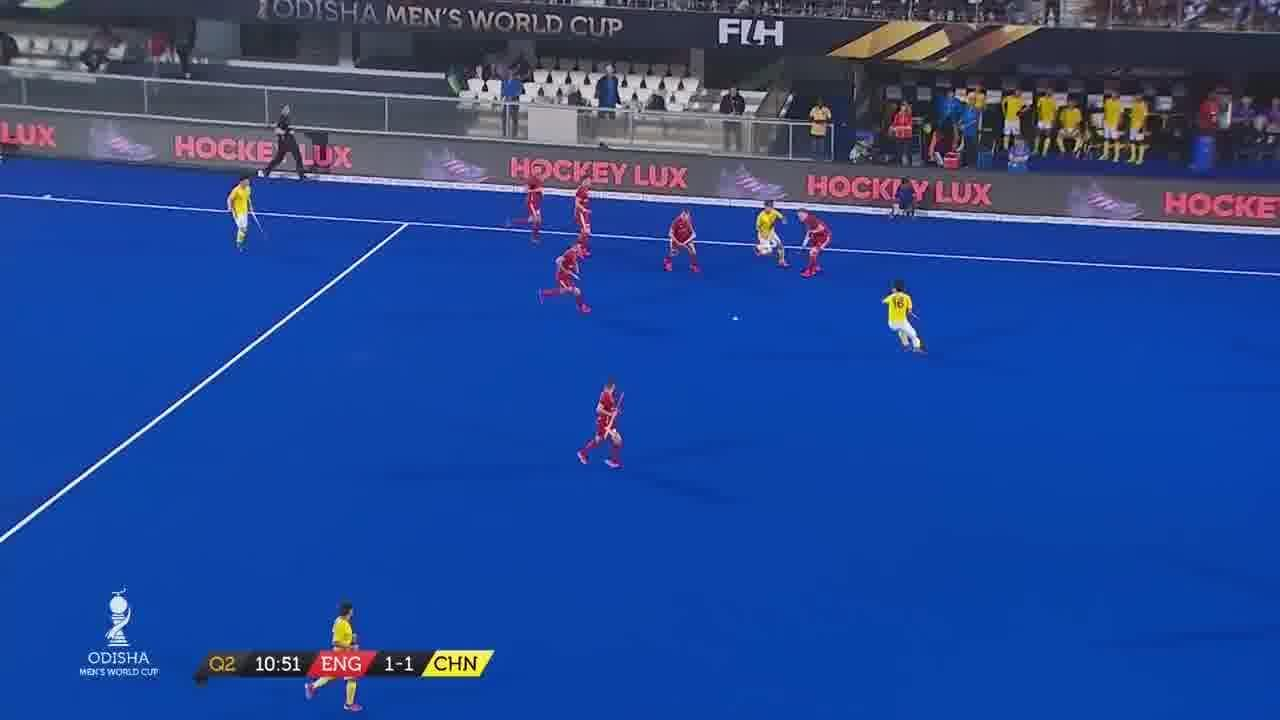ball: (731, 315, 745, 325)
